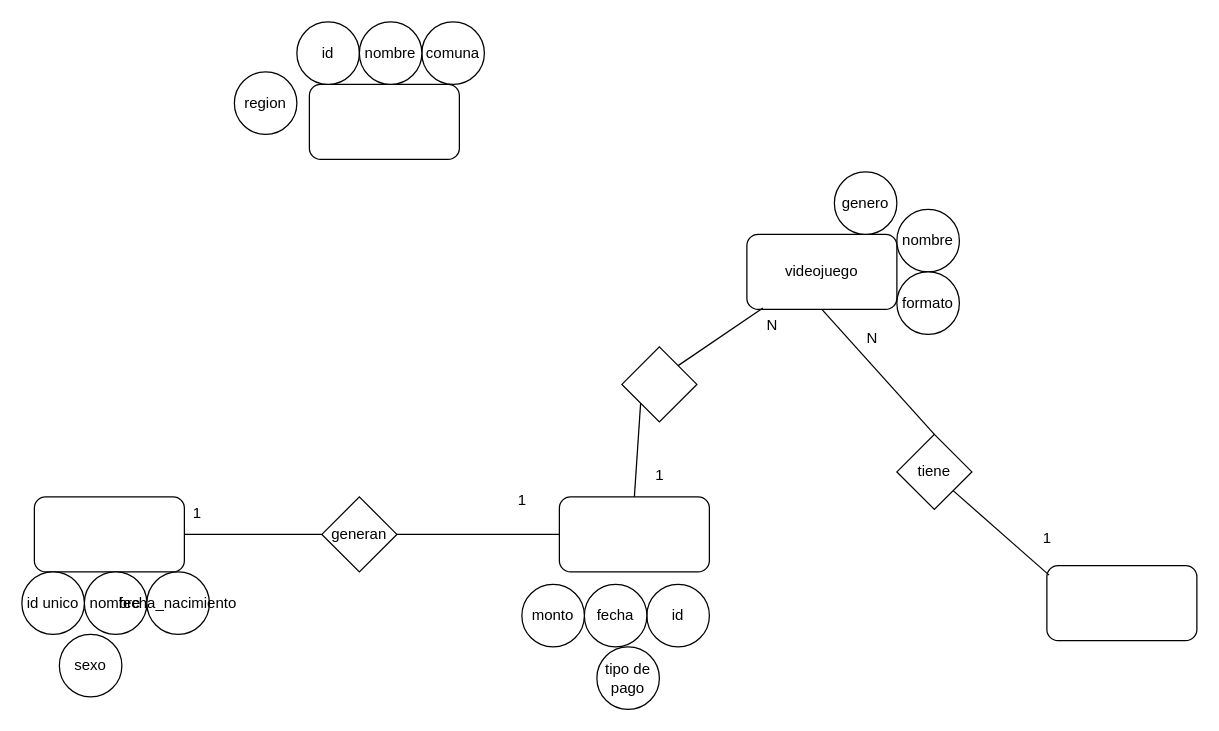
Some shapes in this 1219 by 731 pixel diagram are drawn without their labels. Each missing label, with the centre of its shape:
cliente: point 108,534
estudio desarrollador: point 1121,602
factura: point 633,534
incluye: point 659,384
sucursal: point 383,121
